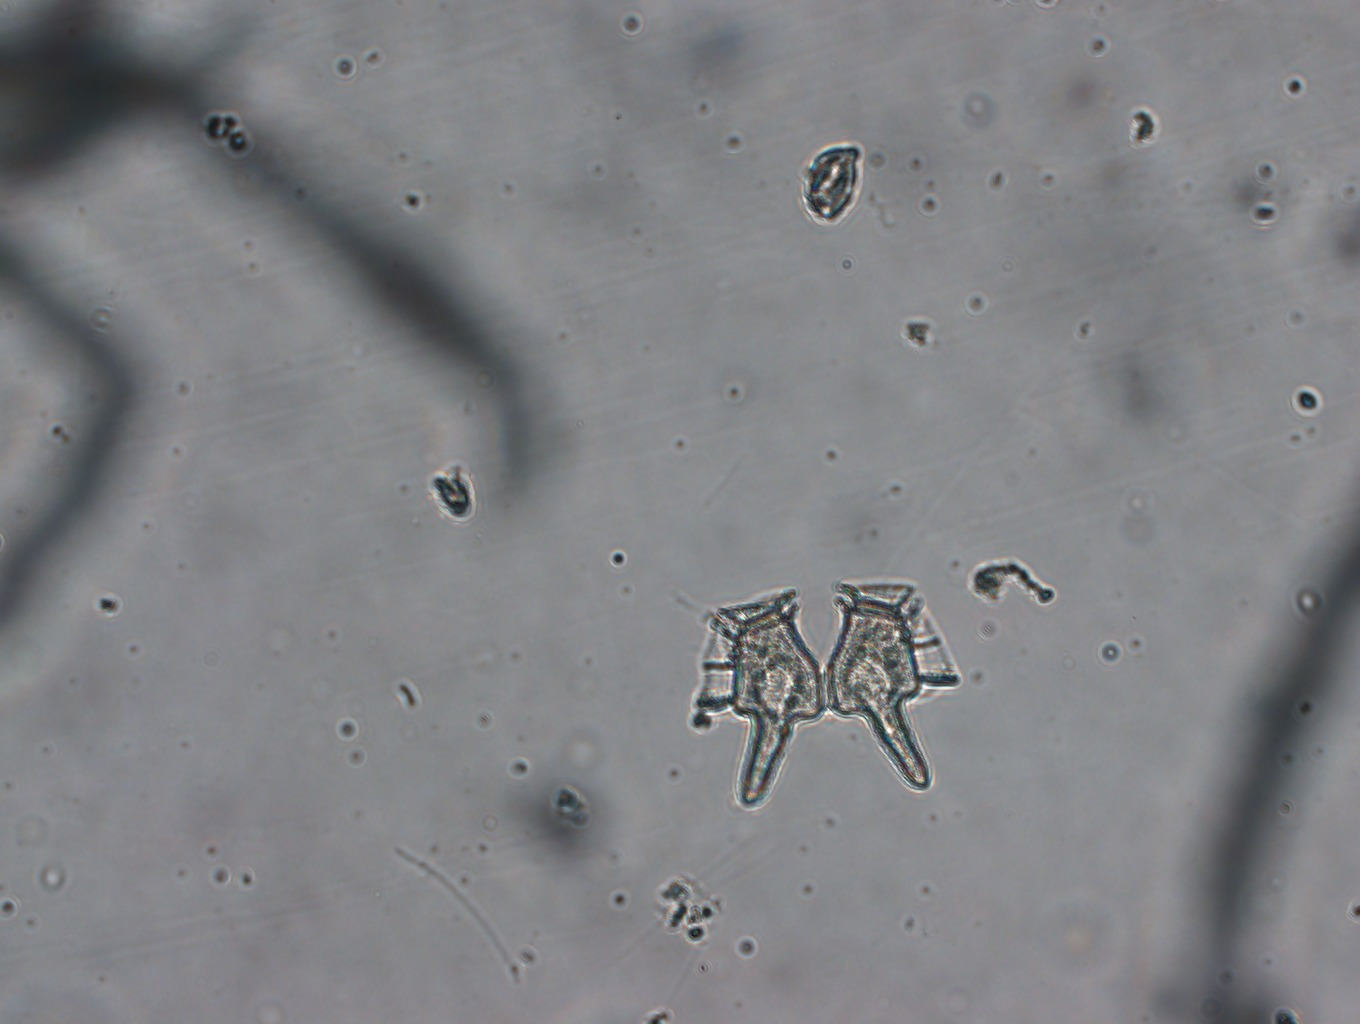dinophysis caudata: (695, 581, 962, 810)
